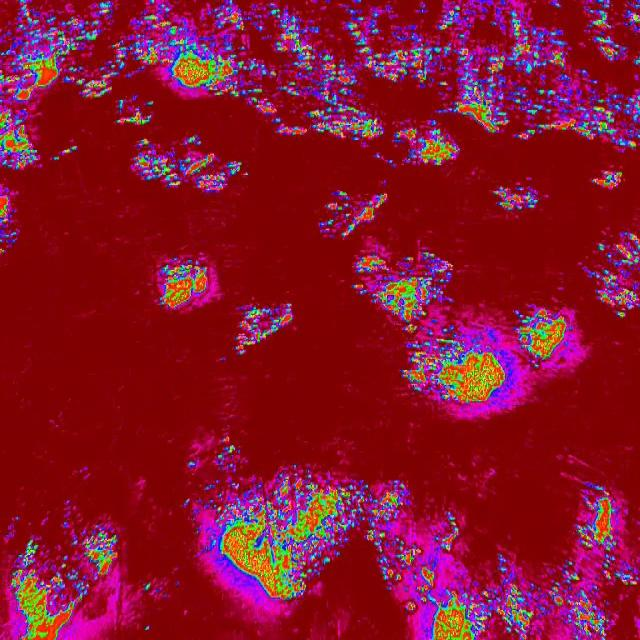fire: (46, 0, 640, 96), (215, 467, 367, 595), (248, 96, 468, 168), (0, 521, 122, 640), (564, 486, 640, 640), (405, 317, 515, 415), (352, 242, 453, 332), (468, 96, 640, 148), (454, 559, 564, 640), (0, 0, 46, 178), (407, 479, 452, 640), (128, 134, 250, 191), (507, 301, 590, 378), (580, 228, 640, 320), (228, 294, 298, 360), (368, 482, 407, 598), (317, 182, 395, 240), (156, 253, 214, 317), (490, 181, 547, 217), (0, 187, 23, 257), (113, 107, 156, 131)
